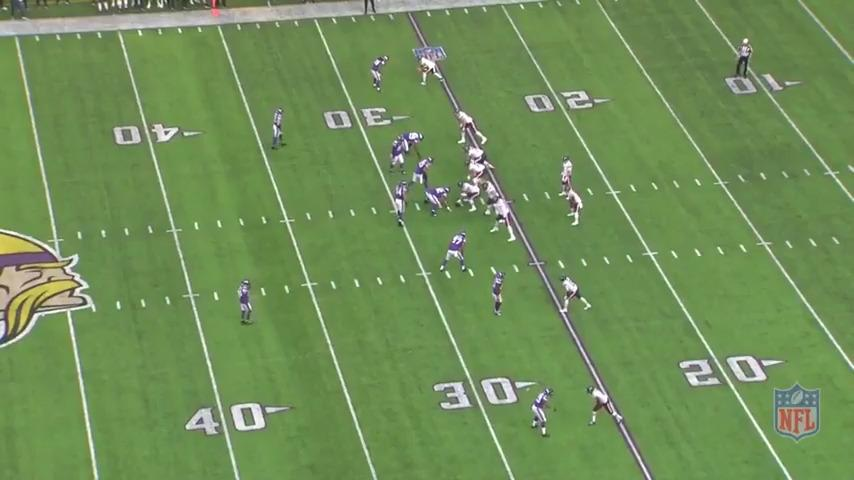defense: (440, 228, 472, 274), (532, 385, 557, 438), (389, 179, 411, 231), (236, 276, 257, 329), (421, 184, 452, 217), (387, 134, 410, 177), (270, 105, 289, 154), (488, 268, 506, 319), (409, 154, 435, 189), (370, 53, 390, 94), (402, 129, 426, 155)
oline: (492, 198, 523, 246), (456, 181, 486, 216), (480, 181, 504, 220), (465, 144, 492, 171), (466, 160, 491, 186)
qb: (559, 154, 575, 203)
ref: (735, 36, 756, 80), (359, 0, 384, 17)
skill: (587, 382, 628, 430), (557, 273, 592, 317), (455, 110, 489, 148), (415, 48, 444, 90), (561, 185, 585, 230)
